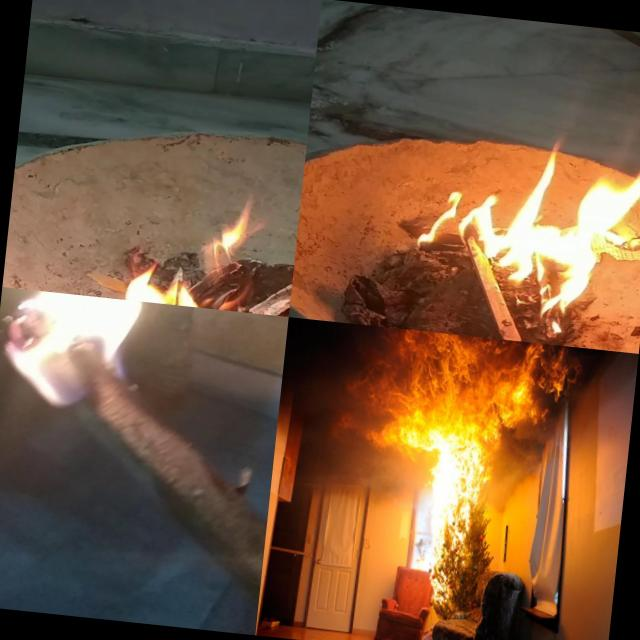fire: (394, 107, 640, 327), (346, 327, 576, 433), (92, 176, 259, 312), (0, 286, 172, 414), (410, 418, 500, 611), (328, 409, 430, 463)
smoke: (490, 425, 556, 520), (323, 452, 424, 506)
